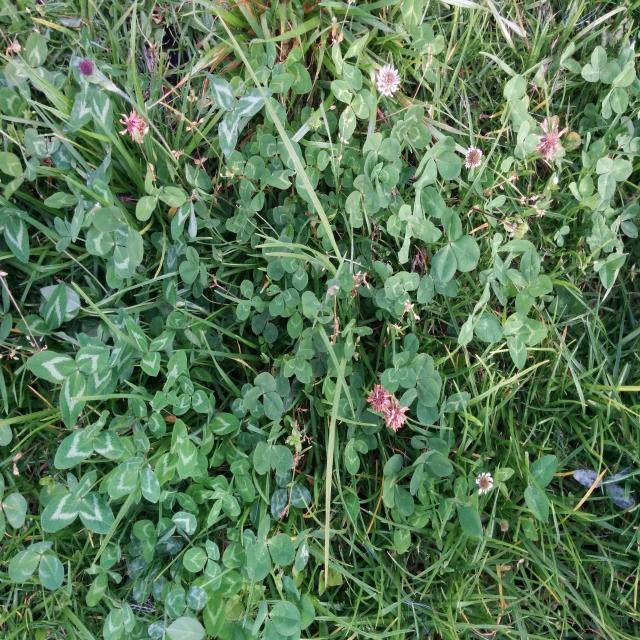Four Leaf Clover: (507, 248, 553, 317)
